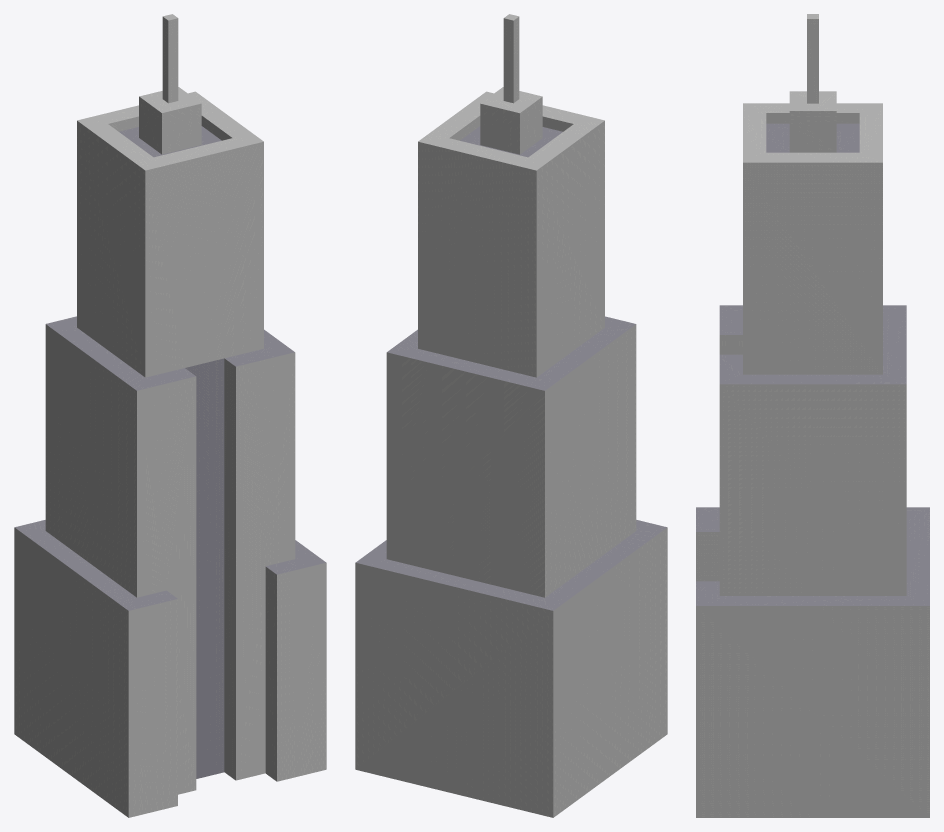
The model's file is building.lod.glb.
3 views of the same model, side by side, from view 1: azimuth 30°, elevation 25°; view 2: azimuth 150°, elevation 25°; view 3: azimuth 270°, elevation 25° (orthographic). The views are drawn at different scales.
Visible parts, largest first — view 1: low_buildingA; view 2: low_buildingA; view 3: low_buildingA.
Part boxes in pixels (x1,y1,x2,y2): low_buildingA: [14, 14, 326, 817]; low_buildingA: [355, 14, 667, 817]; low_buildingA: [696, 14, 929, 817].
Bounding box in the file's own units: 0.5002 × 1.77 × 0.5002.
1 material, 1 textured.
